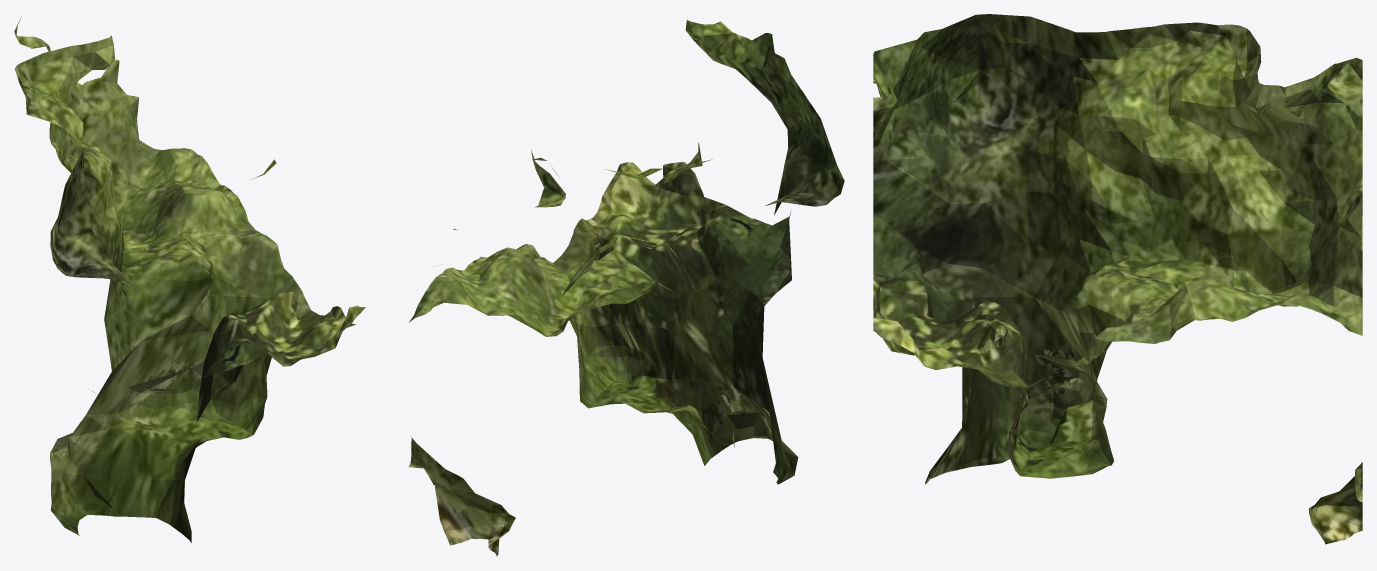
The picture shows the model from 3 angles, left to right: view 1: azimuth 30°, elevation 25°; view 2: azimuth 150°, elevation 25°; view 3: azimuth 270°, elevation 25°; orthographic projection. The views are drawn at different scales.
Bounding box in the file's own units: 2.17 × 2.95 × 2.95.
4 materials, 4 textured.
